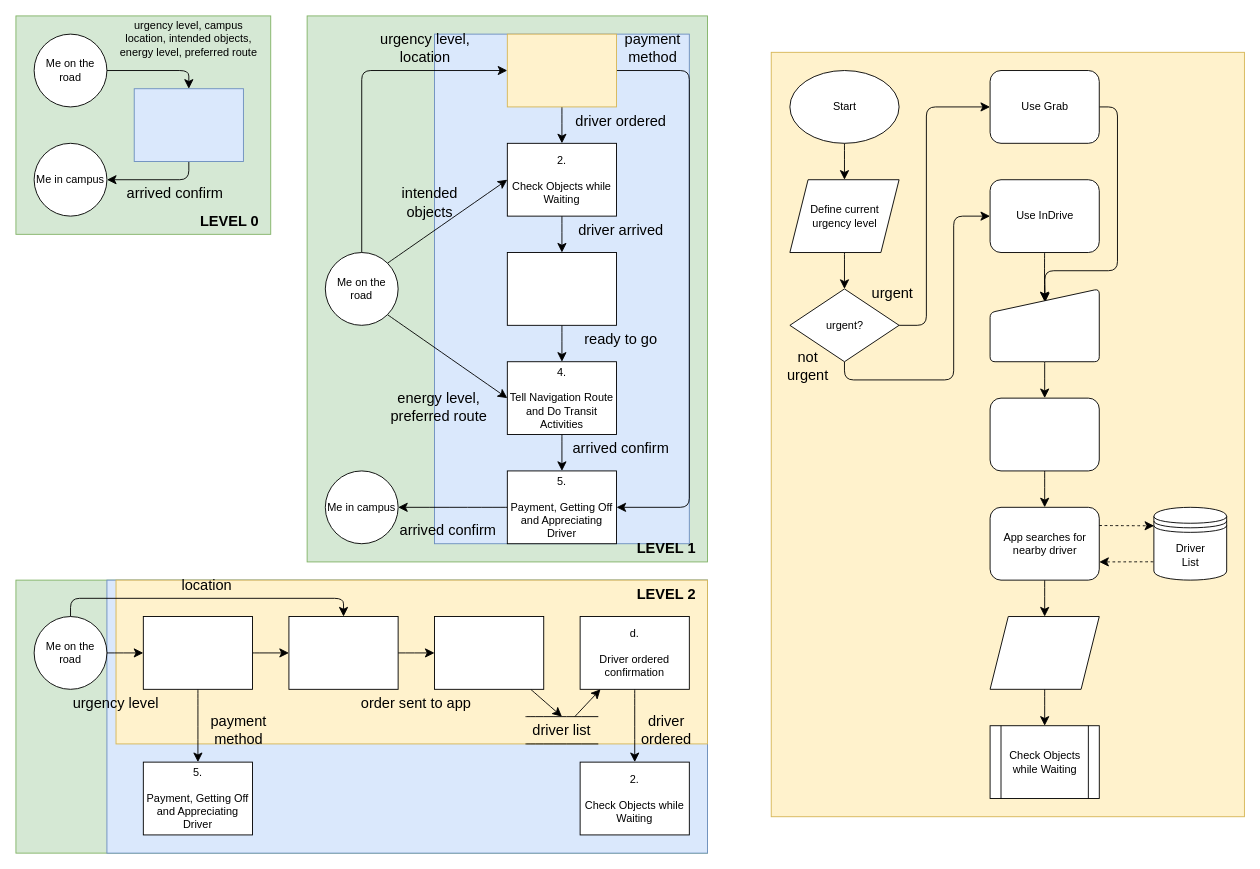
This 1260x869 diagram has some shape labels left out. The centre of each missing label's shape, as x and y in pixels:
1. Commutation from home to campus: pixel 188 125
1. Order Driver in App: pixel 561 70
3. Get on motorcycle: pixel 561 288
a. Select application: pixel 197 652
b. Input locations and book order: pixel 343 652
Book order: pixel 1044 434
c. App searches for nearby driver: pixel 489 652
Driver confirmation and information shown: pixel 1044 652
Home and Campus Locations: pixel 1044 325
